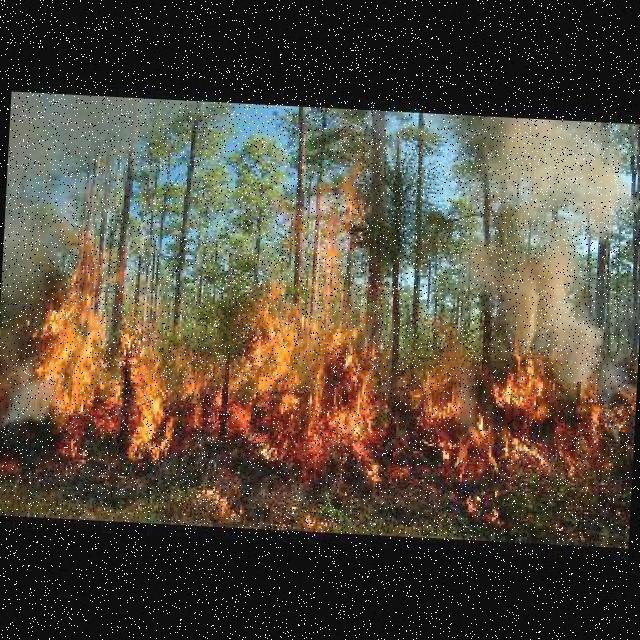Fire: (35, 260, 636, 487)
Smoke: (456, 113, 638, 393), (0, 85, 79, 450)
